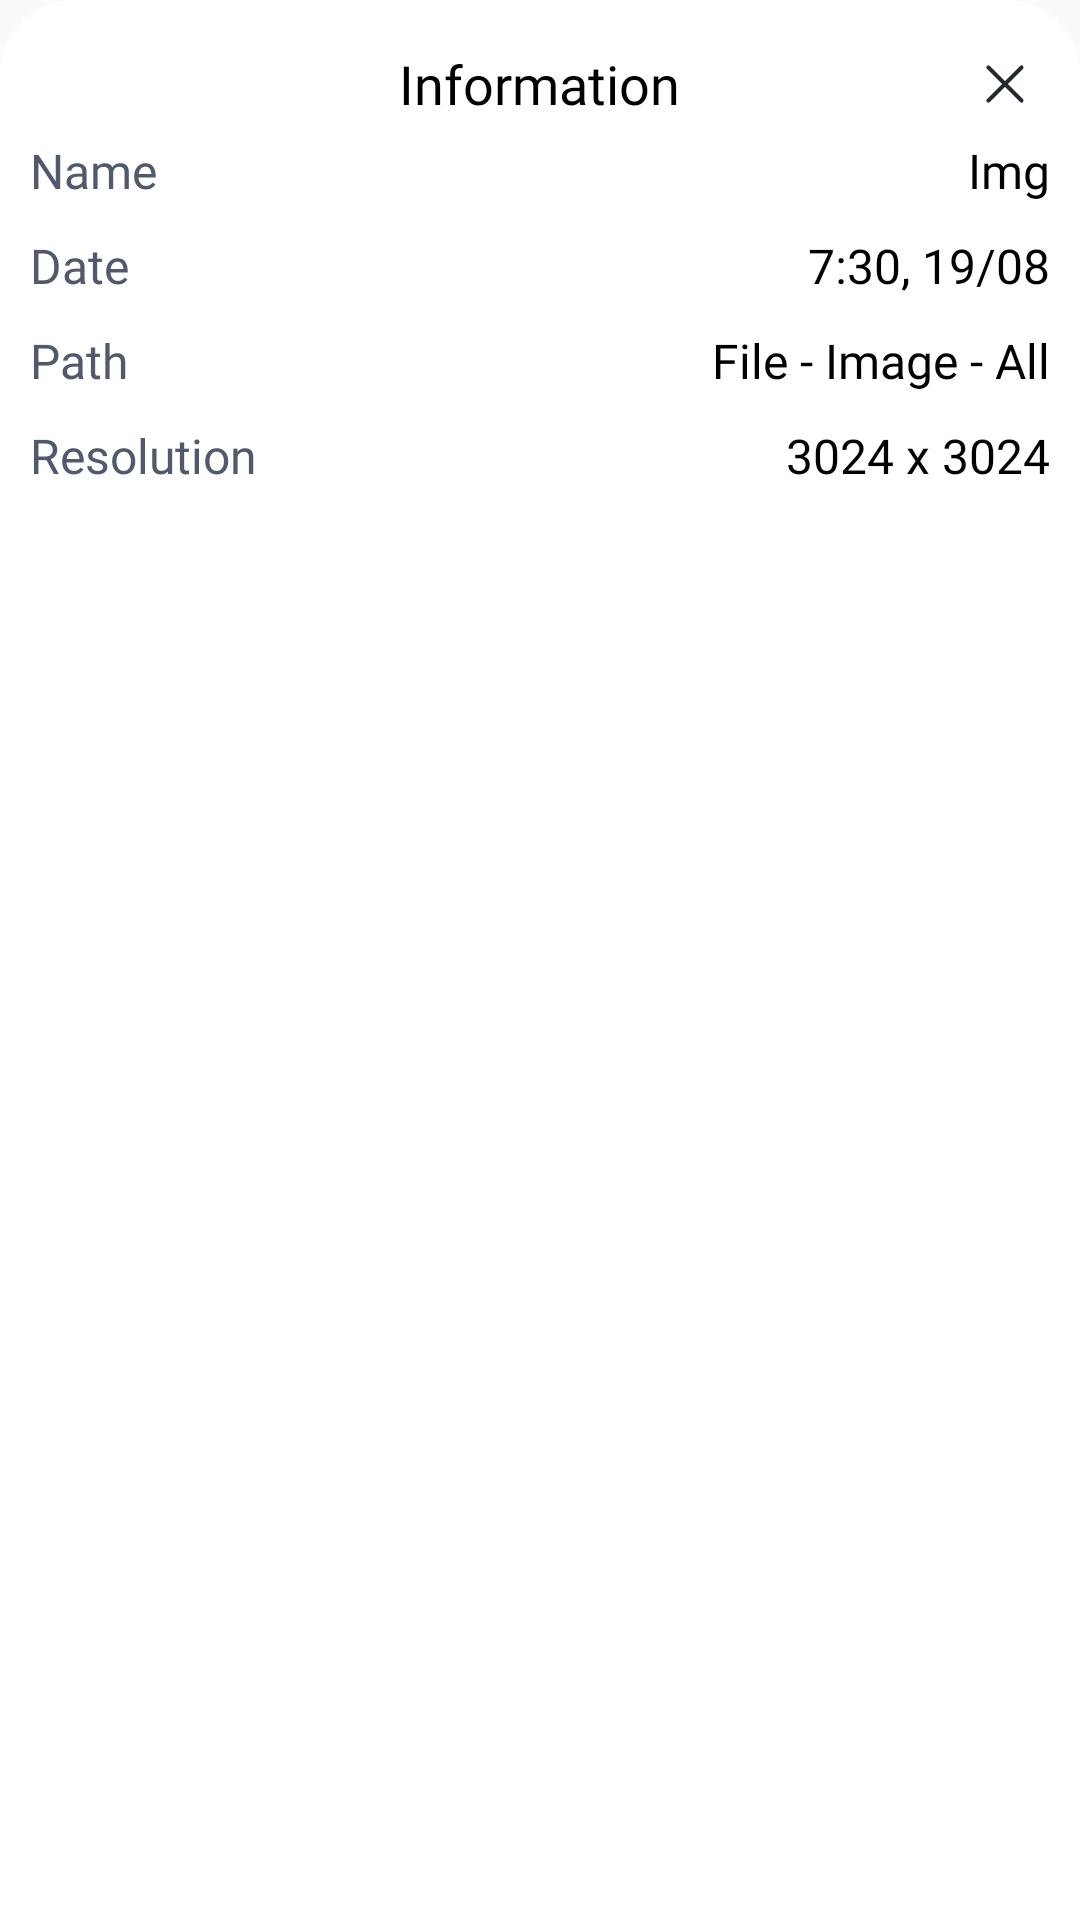

Icon bounding boxes for this 1080×1920 phone screenshot, format (x1, y1, x2, y2):
close: (986, 65, 1024, 103)
